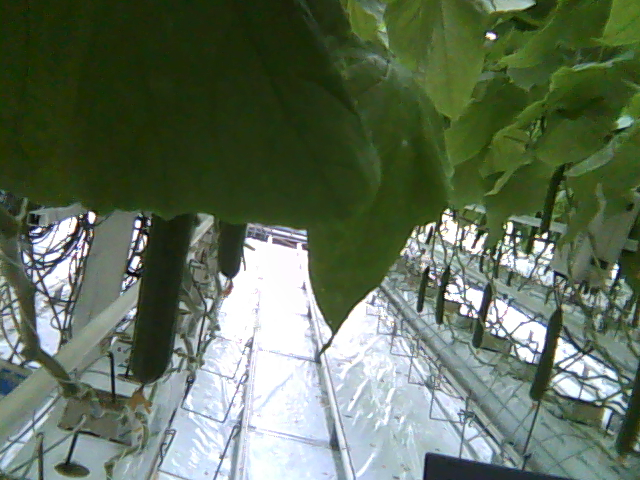concombre: (127, 209, 200, 417)
